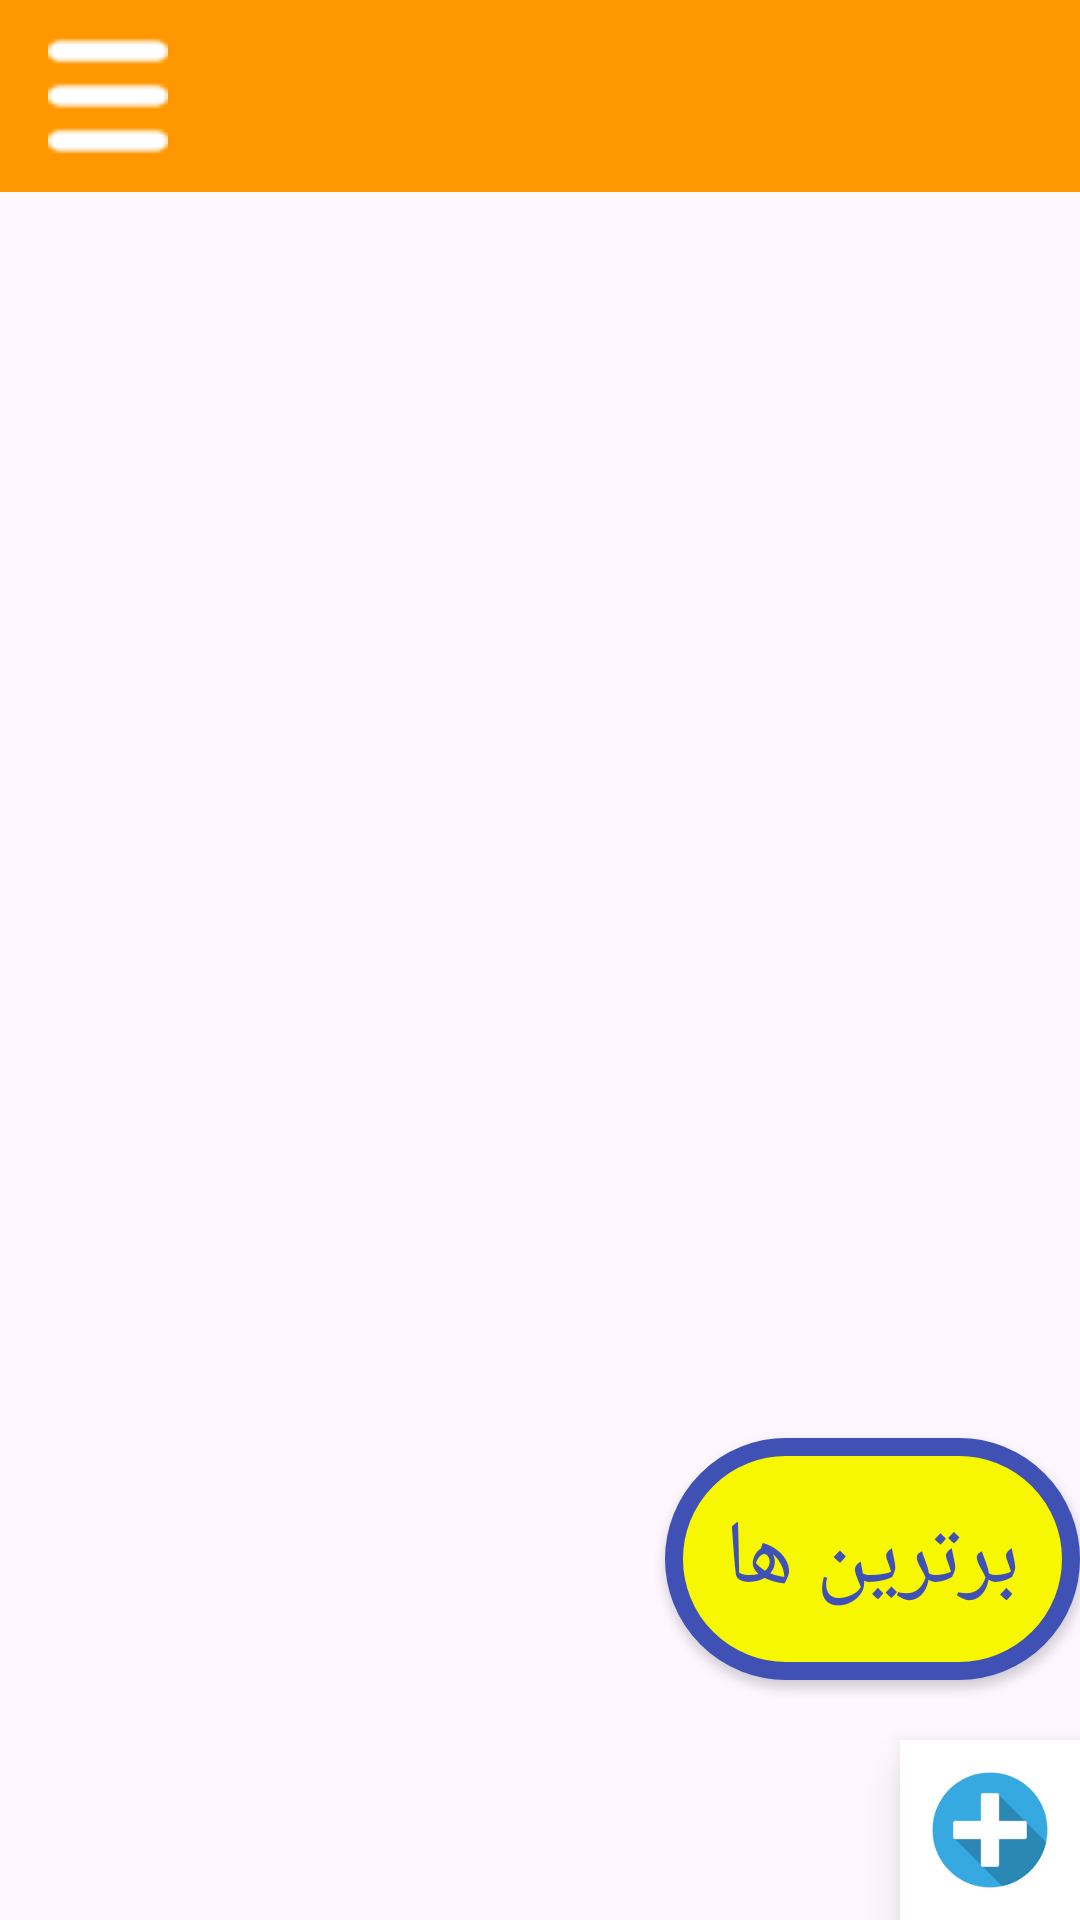

Named icons in this screenshot (1080px x 1920px) and their centers, (x,y):
menu: (108,96)
plus: (990,1830)
